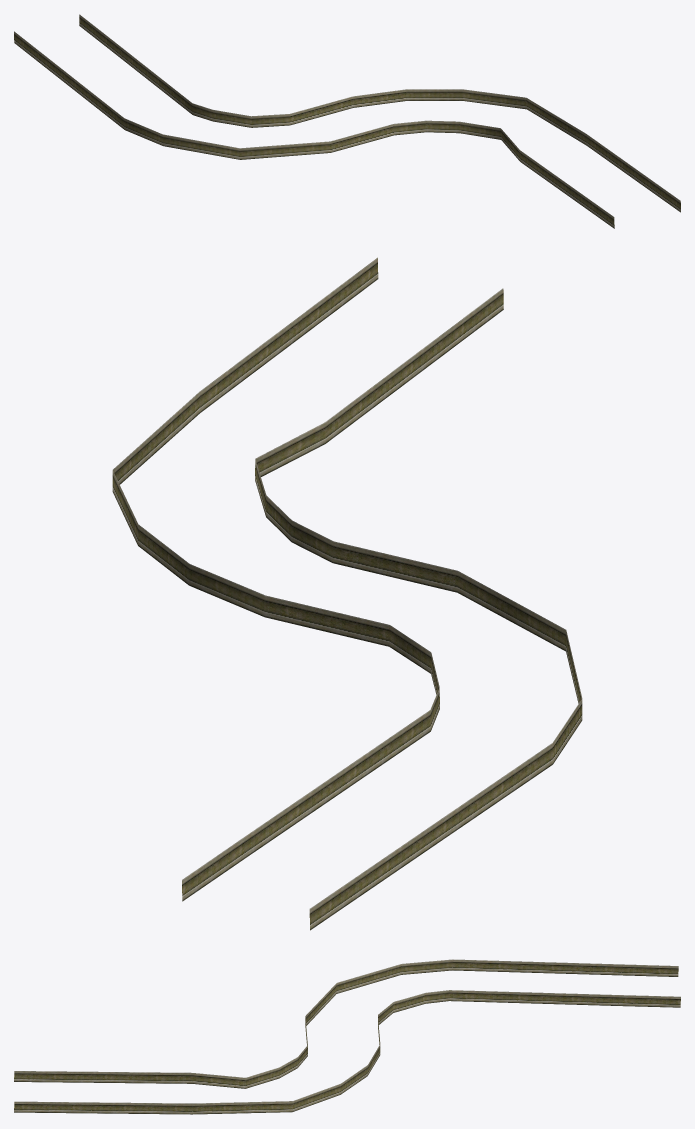
File: CH09_SMAUG_PLAYSURFACE_LAIR105.fbx
The picture shows the model from 3 angles, top to bottom: view 1: azimuth 30°, elevation 25°; view 2: azimuth 150°, elevation 25°; view 3: azimuth 270°, elevation 25°; orthographic projection. The views are drawn at different scales.
Parts seen in each view (by area): view 1: CH09_SMAUG_PLAYSURFACE_LAIR105; view 2: CH09_SMAUG_PLAYSURFACE_LAIR105; view 3: CH09_SMAUG_PLAYSURFACE_LAIR105.
Part boxes in pixels (bbox=[...]): CH09_SMAUG_PLAYSURFACE_LAIR105: bbox=[14, 14, 680, 228]; CH09_SMAUG_PLAYSURFACE_LAIR105: bbox=[112, 257, 582, 930]; CH09_SMAUG_PLAYSURFACE_LAIR105: bbox=[14, 959, 680, 1114].
Bounding box in the file's own units: 192670 × 12595 × 362997.
1 material, 1 textured.
